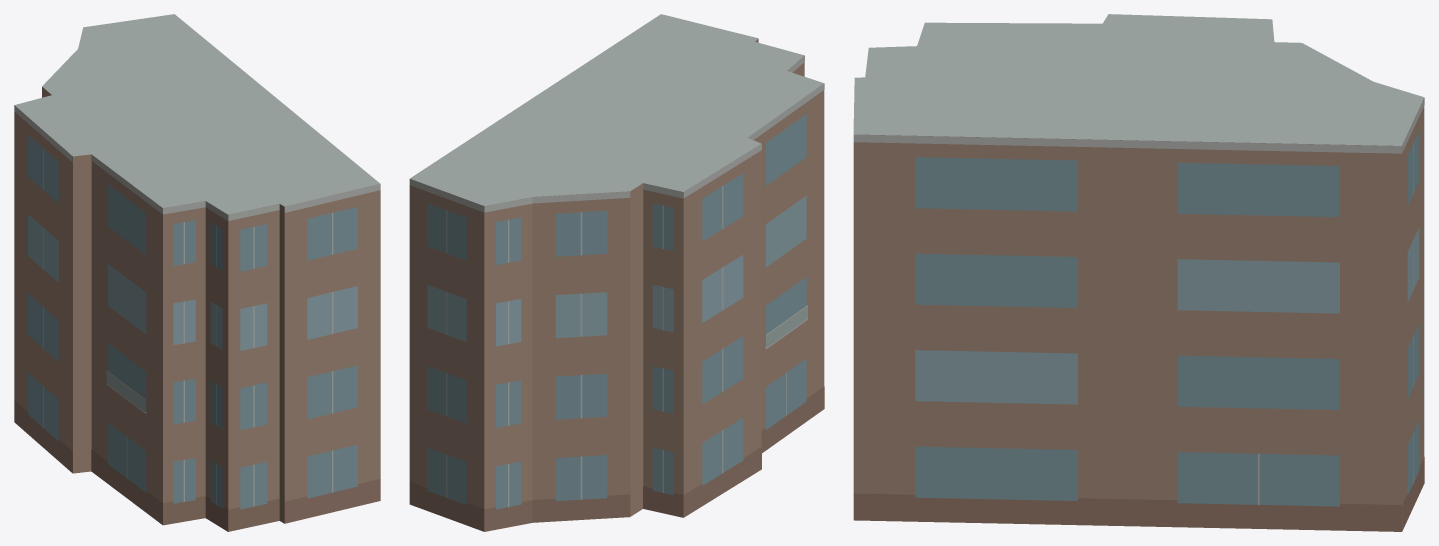
Rendered from survey-upis-32945212.glb.
The picture shows the model from 3 angles, left to right: view 1: azimuth 30°, elevation 25°; view 2: azimuth 150°, elevation 25°; view 3: azimuth 270°, elevation 25°; orthographic projection. The views are drawn at different scales.
Visible parts, largest first — view 1: survey-upis-32945212.tmp; view 2: survey-upis-32945212.tmp; view 3: survey-upis-32945212.tmp.
Part boxes in pixels (x1=…): survey-upis-32945212.tmp: x1=14, y1=14, x2=380, y2=531; survey-upis-32945212.tmp: x1=409, y1=14, x2=824, y2=531; survey-upis-32945212.tmp: x1=853, y1=14, x2=1424, y2=531.
Bounding box in the file's own units: 8.96 × 12.2 × 16.37.
